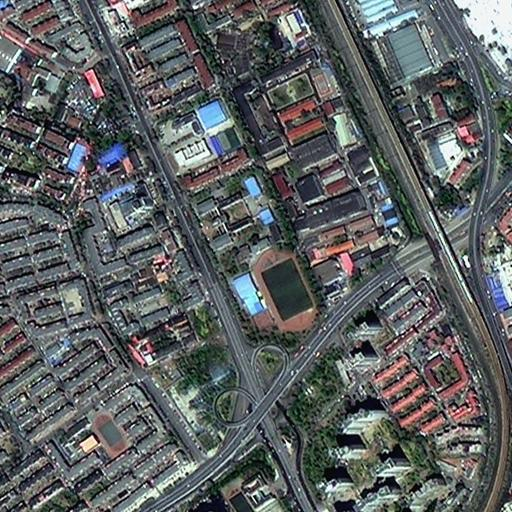school: (195, 170, 317, 334), (54, 410, 132, 464)
